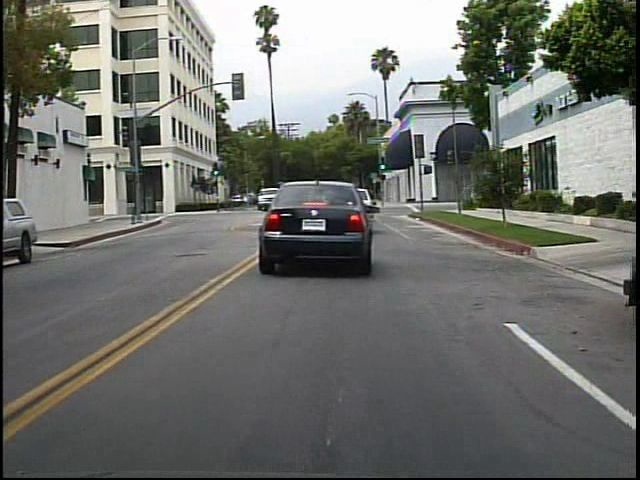person: (309, 181, 335, 221)
